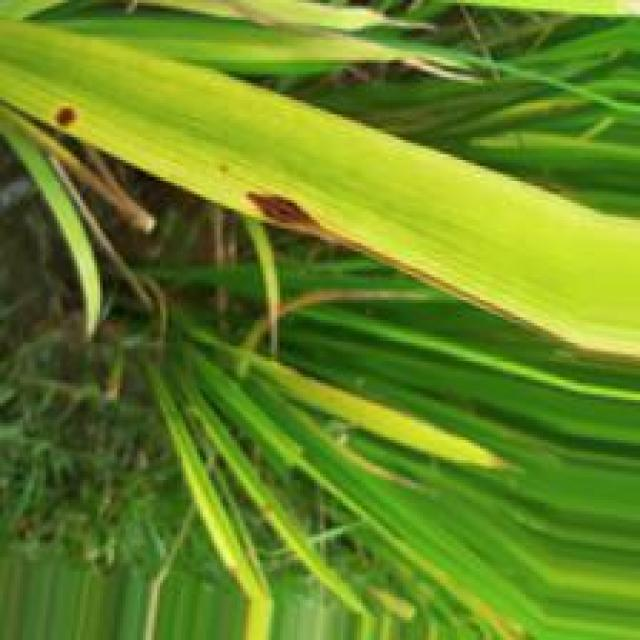Narrow_Brown_Leaf_Spot: (232, 185, 554, 337), (54, 106, 74, 126)
